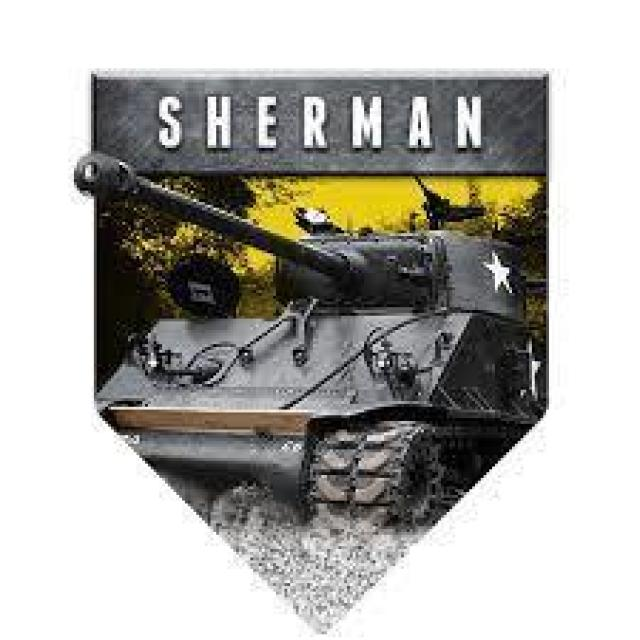Tanks: (97, 205, 549, 532)
